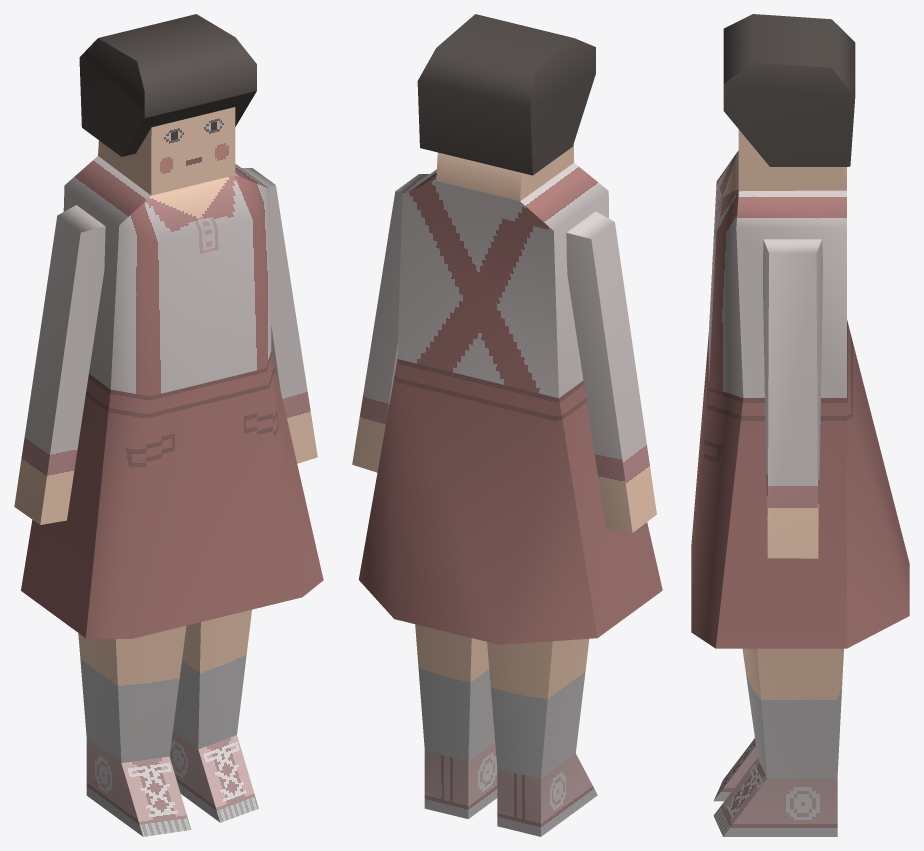
Rendered from 0225_Girl.glb.
3 renders of one model, left to right at view 1: azimuth 30°, elevation 25°; view 2: azimuth 150°, elevation 25°; view 3: azimuth 270°, elevation 25°, orthographic.
Visible parts, largest first — view 1: part_0; view 2: part_0; view 3: part_0.
Part boxes in pixels (<box>): part_0: <box>14,14,323,836</box>; part_0: <box>352,14,662,836</box>; part_0: <box>691,14,909,836</box>.
Size of the model in its own units: 0.4806 by 1.25 by 0.3227.
1 material, 1 textured.
